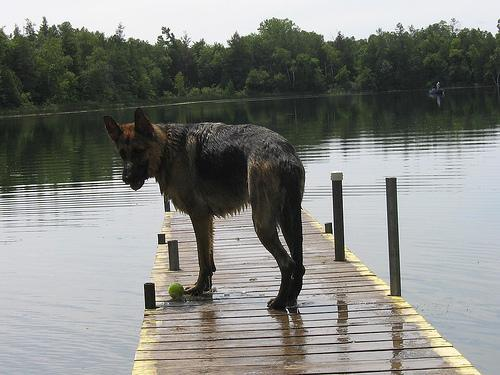German_shepherd: (100, 106, 307, 313)
